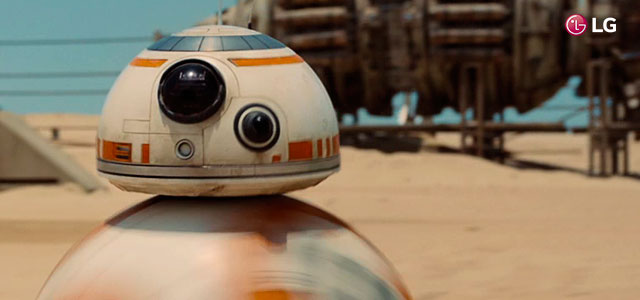bb8: (34, 24, 414, 300)
